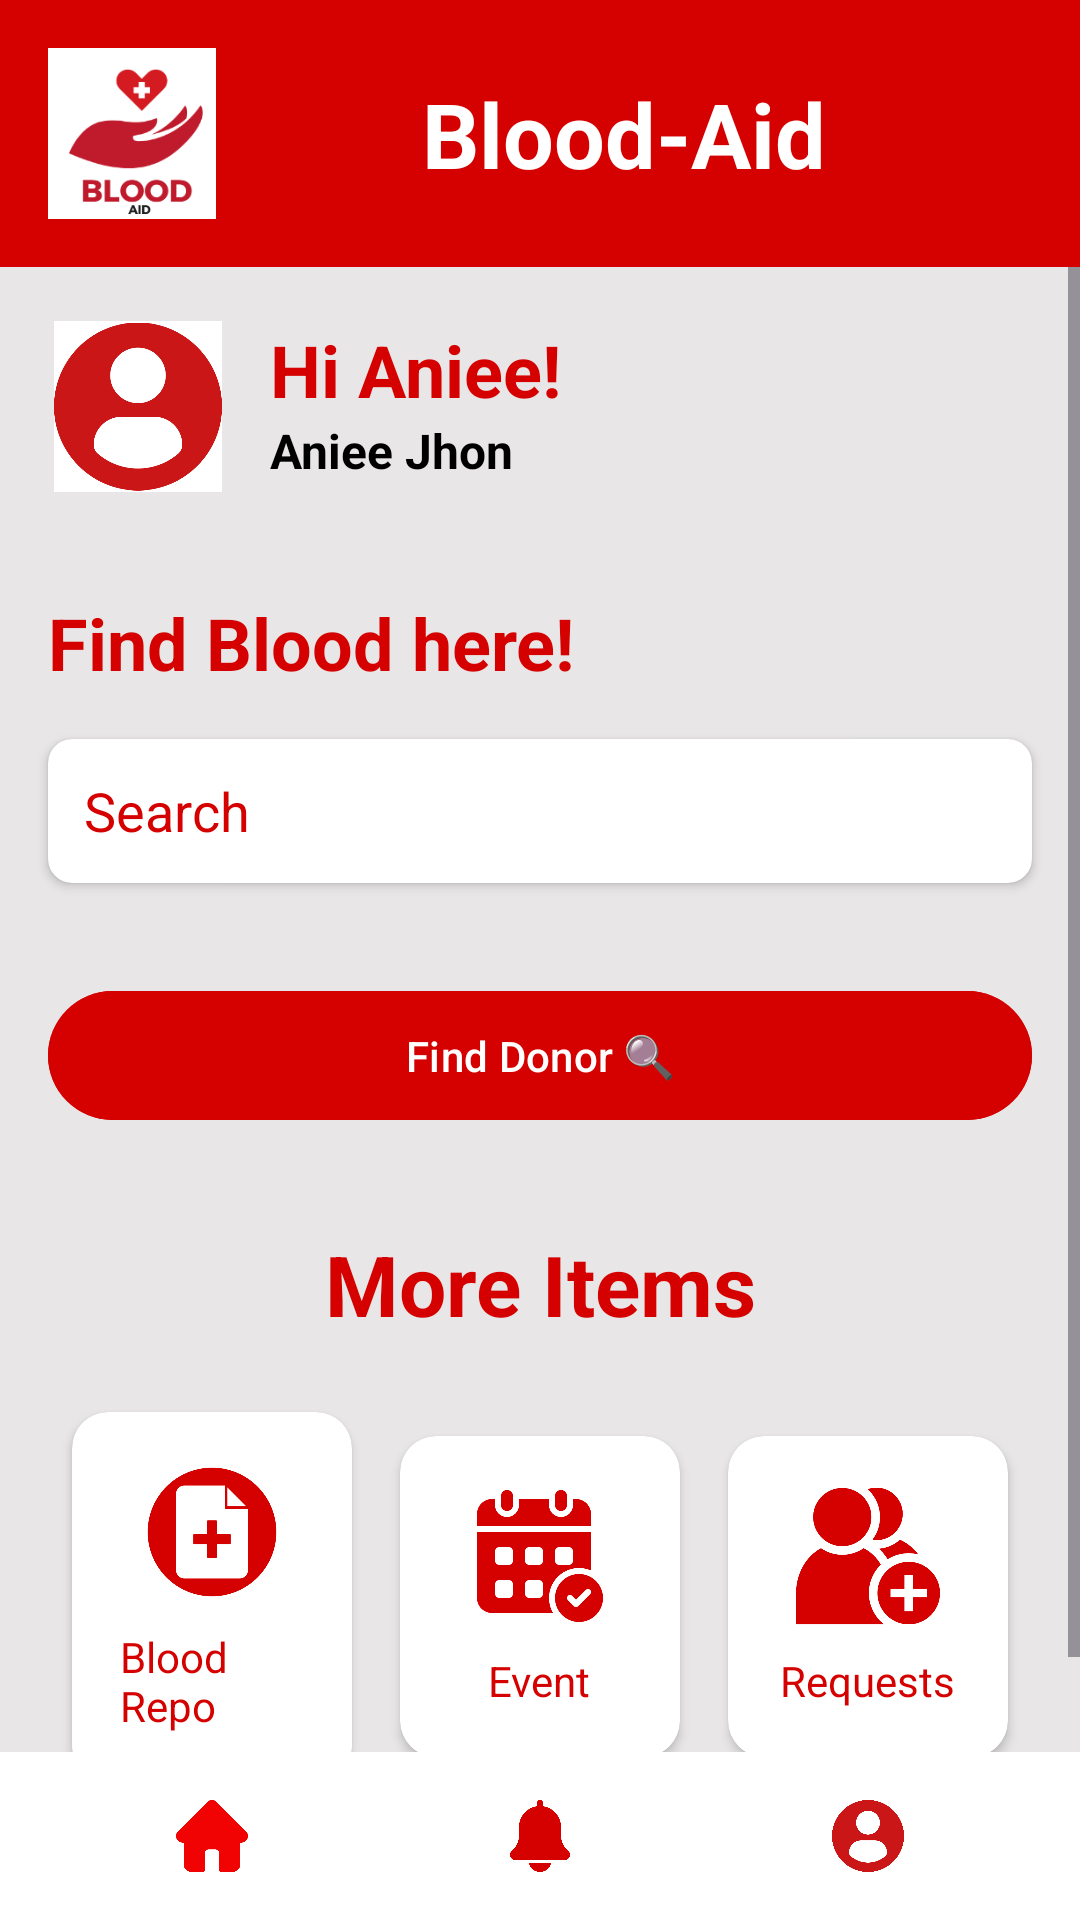

Where icons sit on this 1080x1920 app screen, as (x1, y1, x2, y2):
bell: (510, 1800, 570, 1872)
homepage: (176, 1800, 248, 1872)
profile: (54, 321, 222, 492), (832, 1800, 904, 1872)
report: (147, 1467, 277, 1597)
